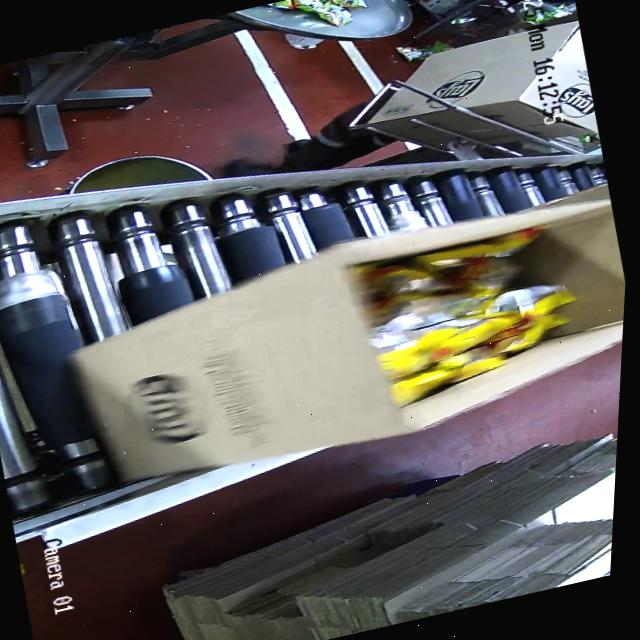SALTED: (340, 226, 591, 425)
